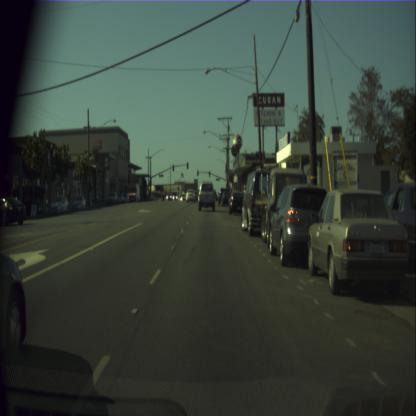Green: (208, 171, 210, 176)
Red: (197, 170, 198, 175)
